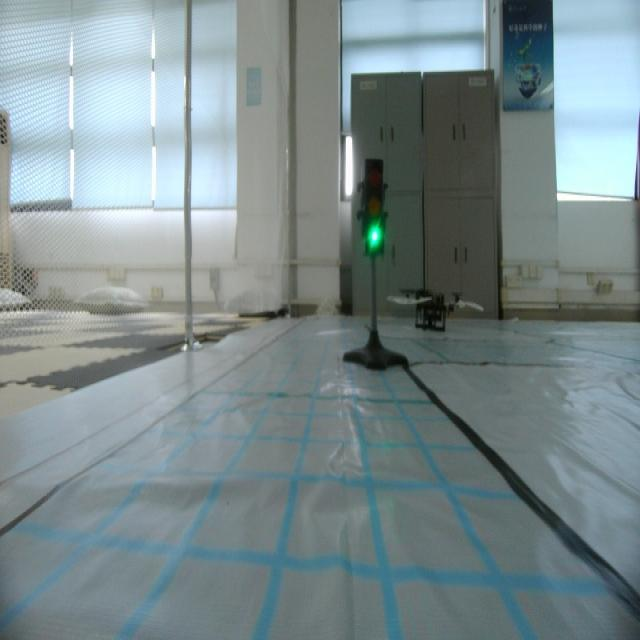green: (358, 158, 392, 258)
